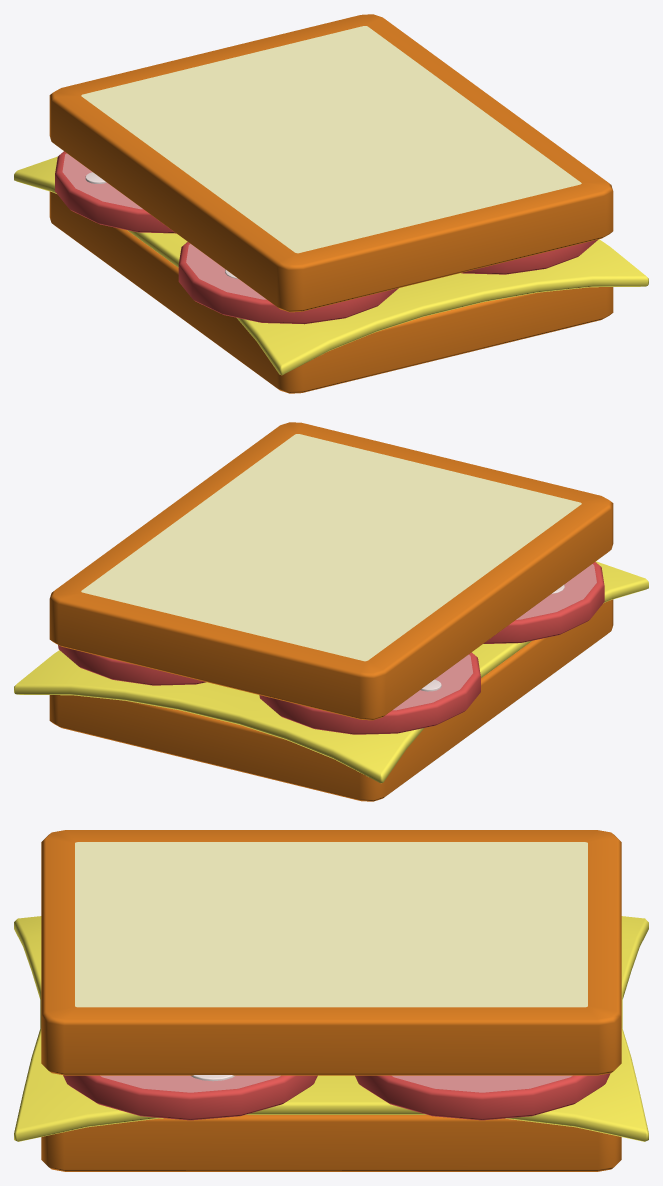
Rendered from Sandwich.fbx.
3 renders of one model, top to bottom at view 1: azimuth 30°, elevation 25°; view 2: azimuth 150°, elevation 25°; view 3: azimuth 270°, elevation 25°, orthographic. The views are drawn at different scales.
Visible parts, largest first — view 1: Sandwich; view 2: Sandwich; view 3: Sandwich.
Boxes of the visible parts, x1,y1,x2,y2 form: Sandwich: [14, 14, 648, 393]; Sandwich: [14, 422, 648, 801]; Sandwich: [14, 830, 648, 1171].
Bounding box in the file's own units: 16.07 × 4.99 × 18.8.
